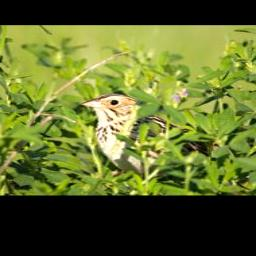Sparrow: (78, 92, 218, 184)
